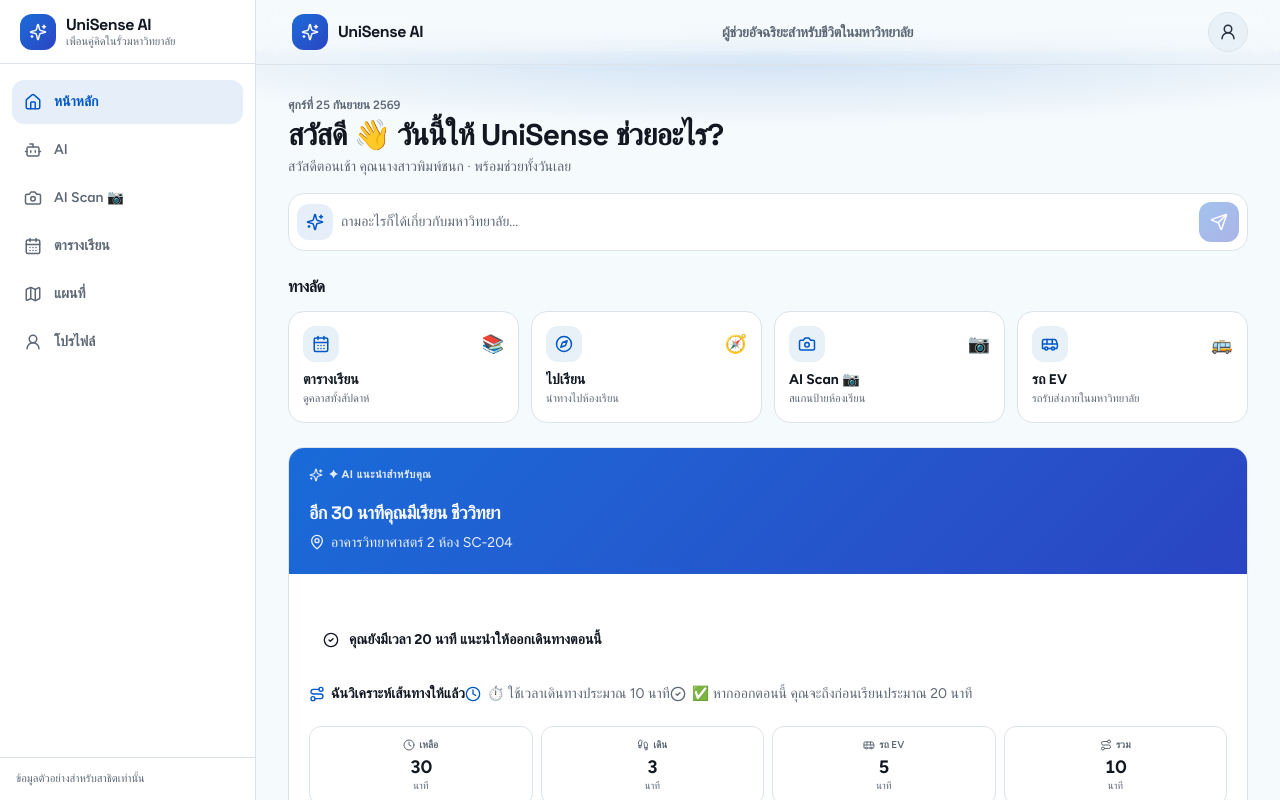
AI Scan cover › opens the scan screen from the Home quick action
The width and height of the screenshot is (1280, 800).
Click the link with test id "home.quick_action.scan" at (890, 367), box 774,311 -> 1005,423
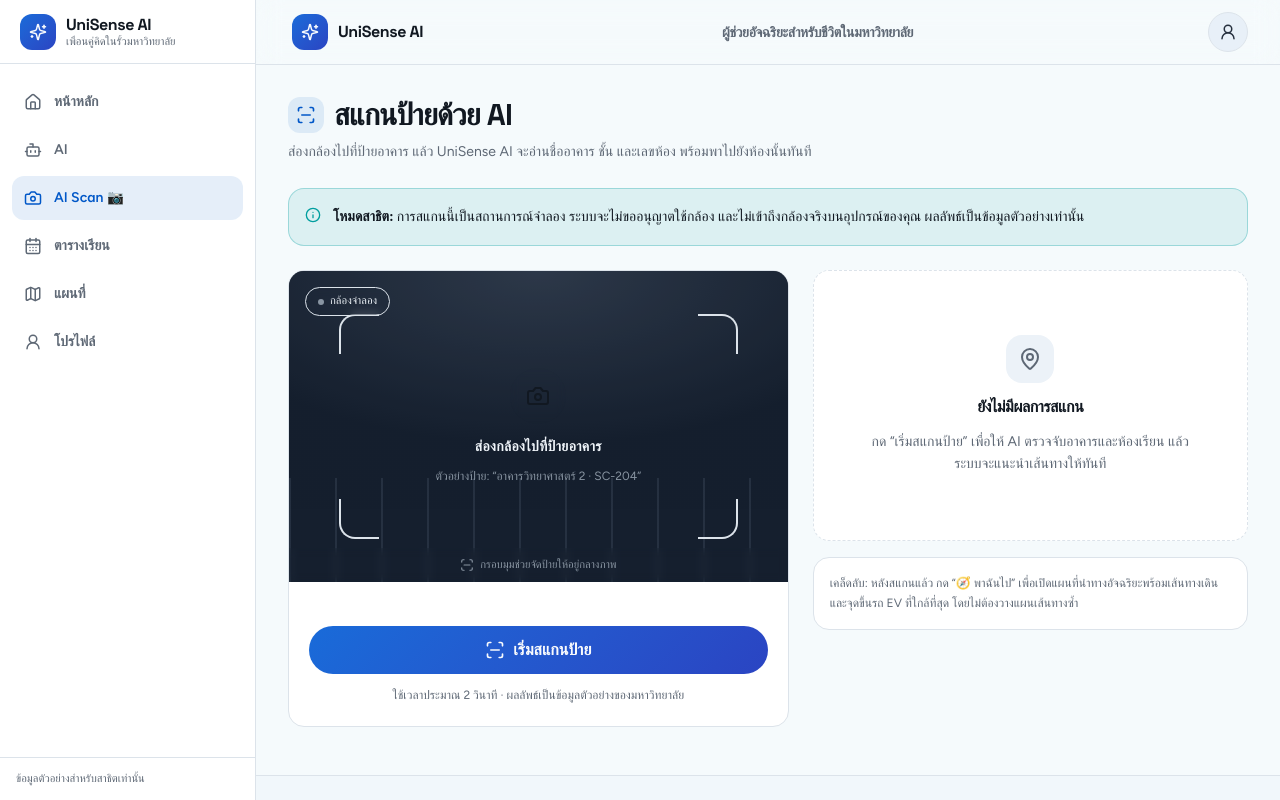
Expected: the element with test id "scan.viewfinder" is shown, 289,270 -> 788,582
